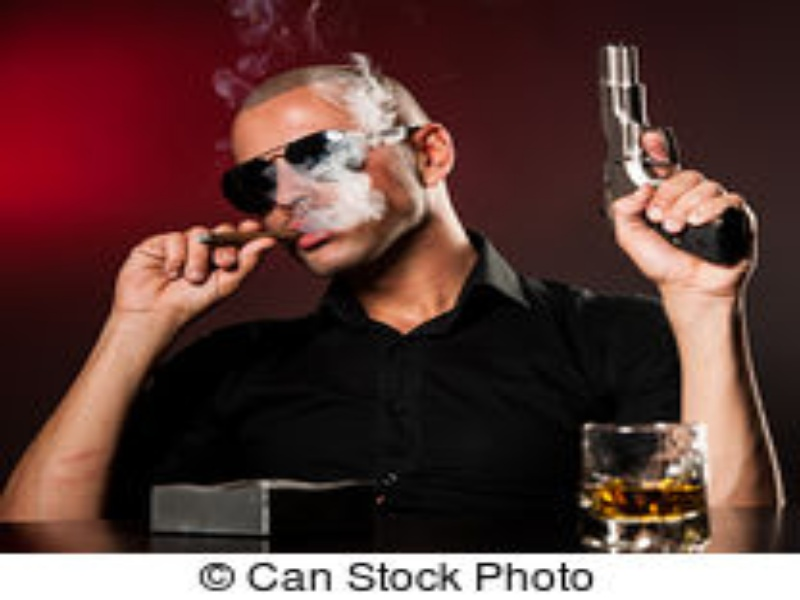gun: (567, 31, 757, 291)
